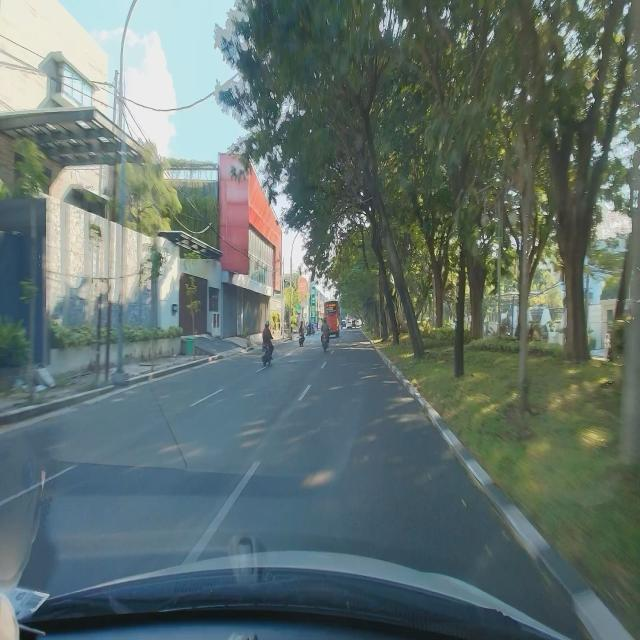bus: (323, 297, 341, 341)
